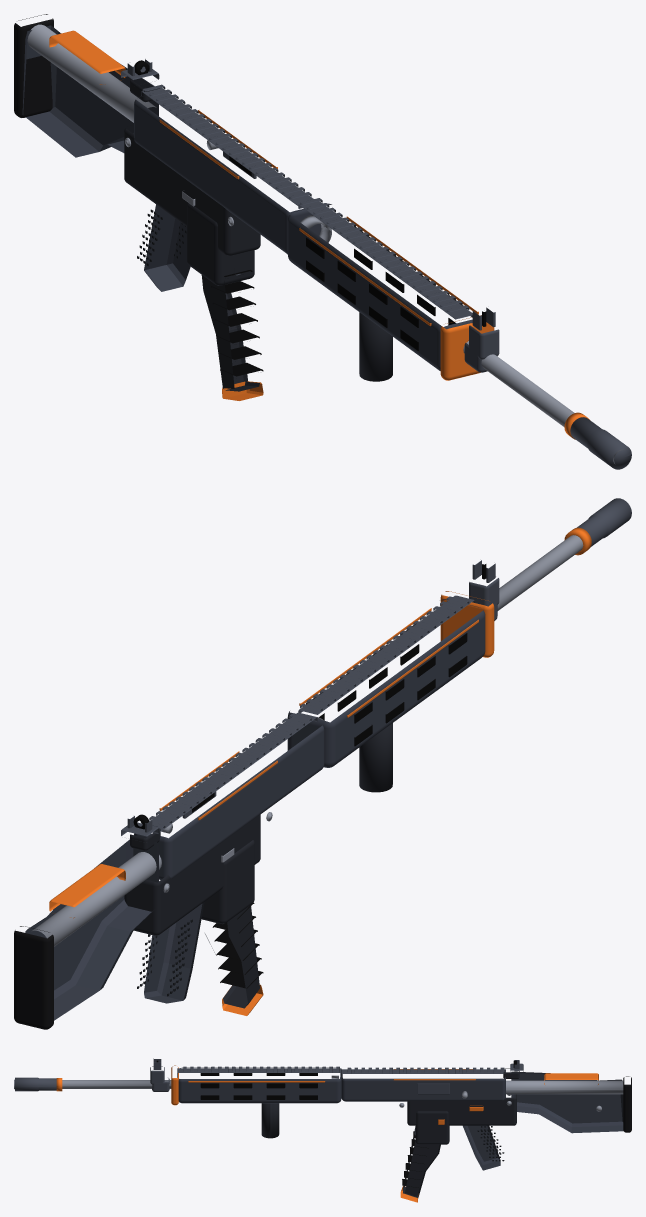
File: Rifle_AR9_Bare.glb
3 renders of one model, top to bottom at view 1: azimuth 30°, elevation 25°; view 2: azimuth 150°, elevation 25°; view 3: azimuth 270°, elevation 25°, orthographic. The views are drawn at different scales.
Parts seen in each view (by area): view 1: UpperReceiver, Handguard, Stock, LowerReceiver, RailHandguard, RailUpper, MagWell, BufferTube, PistolGrip, ButtPad, Magazine, MLOK (+7 smaller); view 2: UpperReceiver, Stock, Handguard, LowerReceiver, ButtPad, PistolGrip, RailHandguard, RailUpper, BufferTube, MagWell, MLOK, Magazine (+6 smaller); view 3: Stock, Handguard, UpperReceiver, LowerReceiver, BufferTube, MagWell, Magazine, MLOK, PistolGrip, RailHandguard, RailUpper, Barrel (+8 smaller).
Boxes of the visible parts, x1,y1,x2,y2 form: UpperReceiver: [134, 96, 322, 253]; Handguard: [287, 203, 472, 370]; Stock: [22, 25, 158, 157]; LowerReceiver: [124, 125, 260, 256]; RailHandguard: [298, 198, 472, 319]; RailUpper: [141, 84, 313, 205]; MagWell: [187, 202, 254, 285]; BufferTube: [27, 24, 156, 122]; PistolGrip: [144, 204, 190, 291]; ButtPad: [14, 14, 53, 117]; Magazine: [201, 275, 259, 391]; MLOK: [306, 226, 466, 350]; UpperReceiver: [134, 717, 324, 879]; Stock: [25, 839, 158, 1020]; Handguard: [287, 599, 485, 767]; LowerReceiver: [124, 814, 260, 935]; ButtPad: [14, 926, 53, 1029]; PistolGrip: [144, 902, 204, 1003]; RailHandguard: [298, 595, 474, 714]; RailUpper: [149, 712, 317, 831]; BufferTube: [31, 852, 161, 946]; MagWell: [201, 840, 254, 924]; MLOK: [306, 623, 467, 746]; Magazine: [205, 905, 259, 1008]; Stock: [511, 1071, 623, 1133]; Handguard: [177, 1067, 341, 1103]; UpperReceiver: [341, 1074, 505, 1101]; LowerReceiver: [407, 1094, 516, 1125]; BufferTube: [506, 1080, 623, 1094]; MagWell: [415, 1111, 449, 1144]; Magazine: [403, 1126, 440, 1197]; MLOK: [200, 1073, 317, 1099]; PistolGrip: [463, 1125, 500, 1170]; RailHandguard: [177, 1066, 341, 1074]; RailUpper: [341, 1067, 505, 1073]; Barrel: [14, 1080, 171, 1088].
Bounding box in the file's own units: 0.0635 × 0.281 × 1.13.
